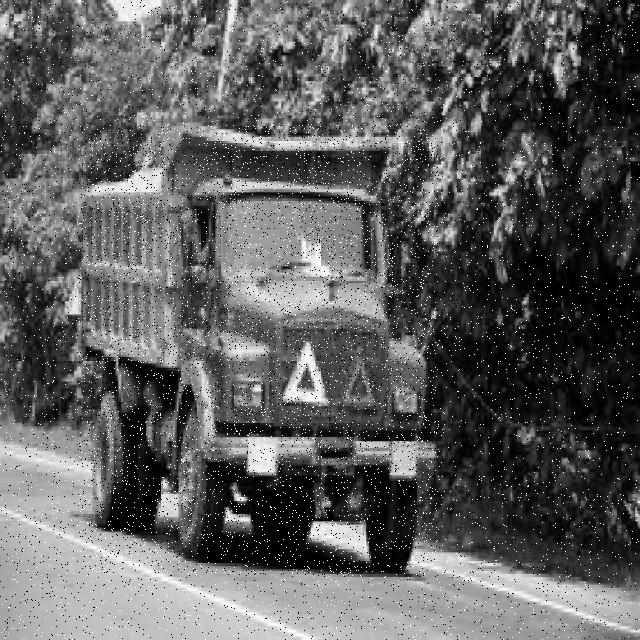Box Truck: (79, 125, 438, 574)
